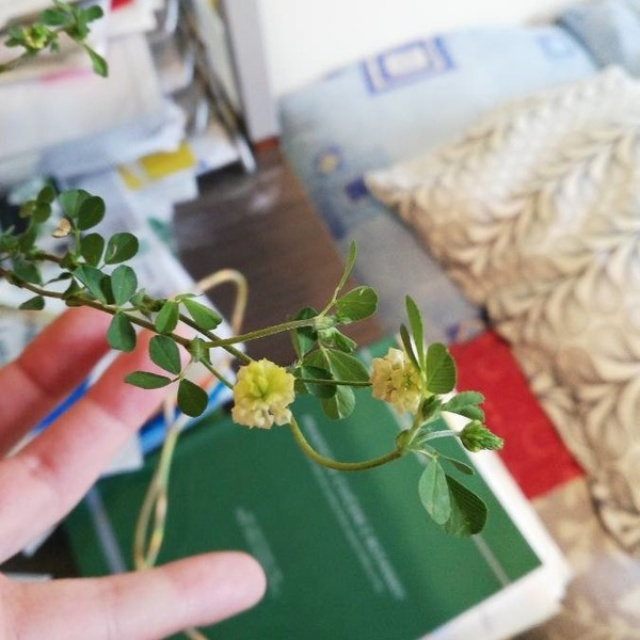obstacle: (14, 173, 496, 547)
